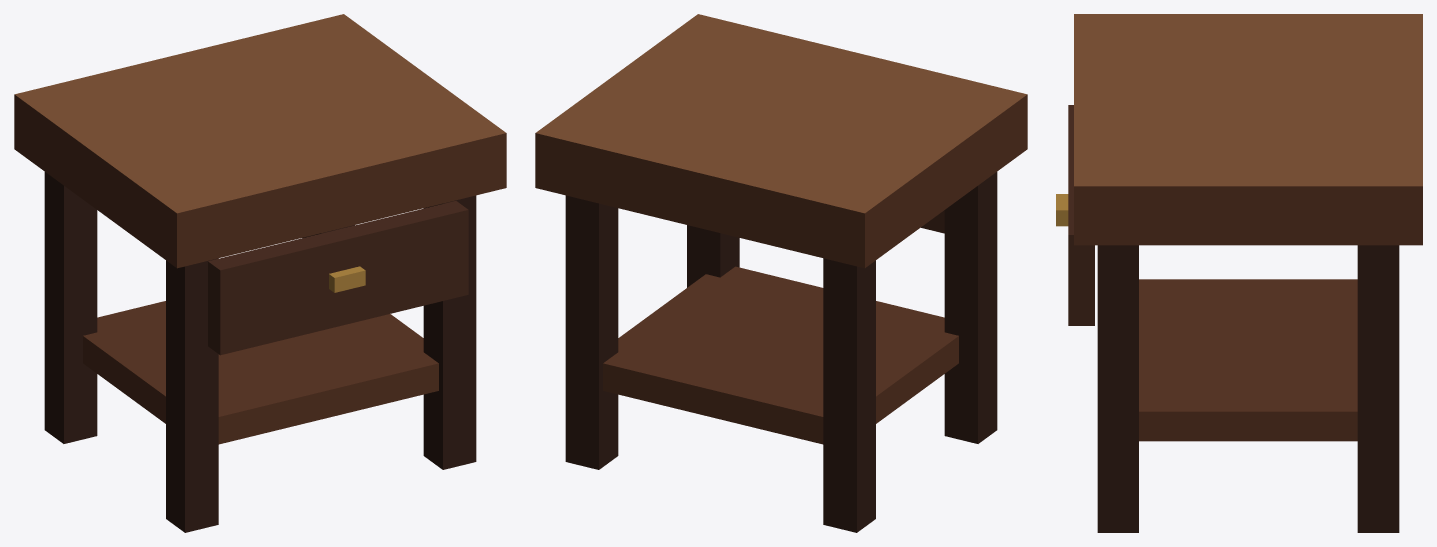
Rendered from side_table.obj.
3 views of the same model, side by side, from view 1: azimuth 30°, elevation 25°; view 2: azimuth 150°, elevation 25°; view 3: azimuth 270°, elevation 25° (orthographic). The views are drawn at different scales.
Visible parts, largest first — view 1: side_table; view 2: side_table; view 3: side_table.
Part boxes in pixels (x1,y1,x2,y2): side_table: (14, 14, 506, 532); side_table: (535, 14, 1027, 532); side_table: (1056, 14, 1422, 532).
Size of the model in its own units: 0.69 by 0.665 by 0.62.
